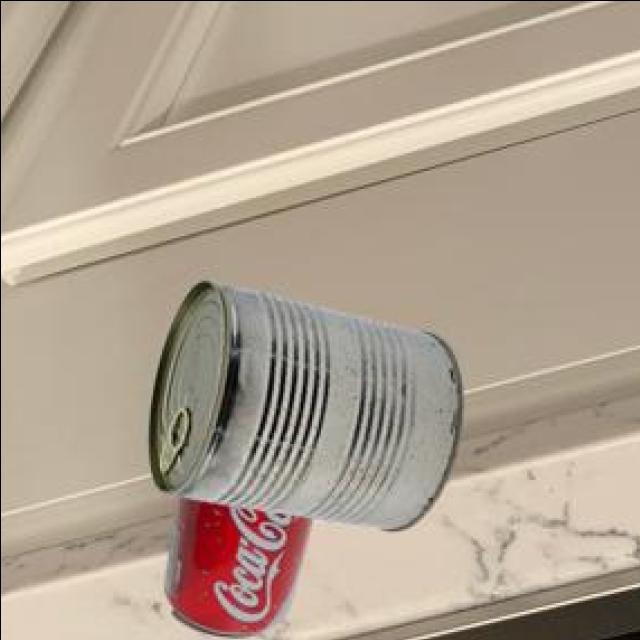logam: (151, 283, 464, 534), (167, 498, 314, 639)
